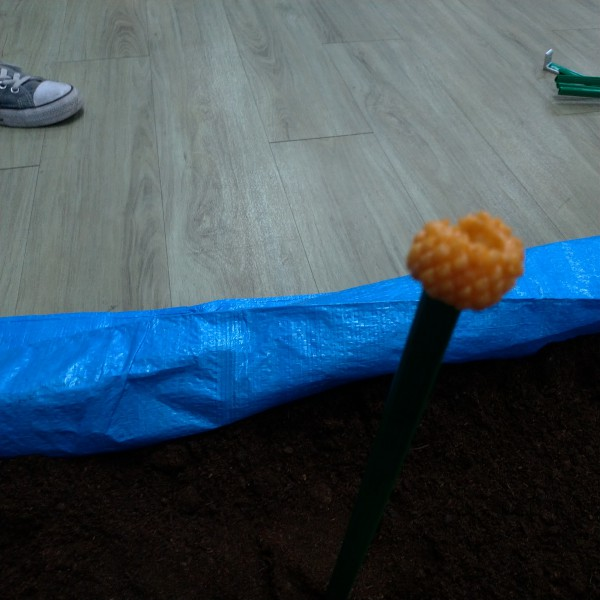eggs: (404, 197, 526, 318)
